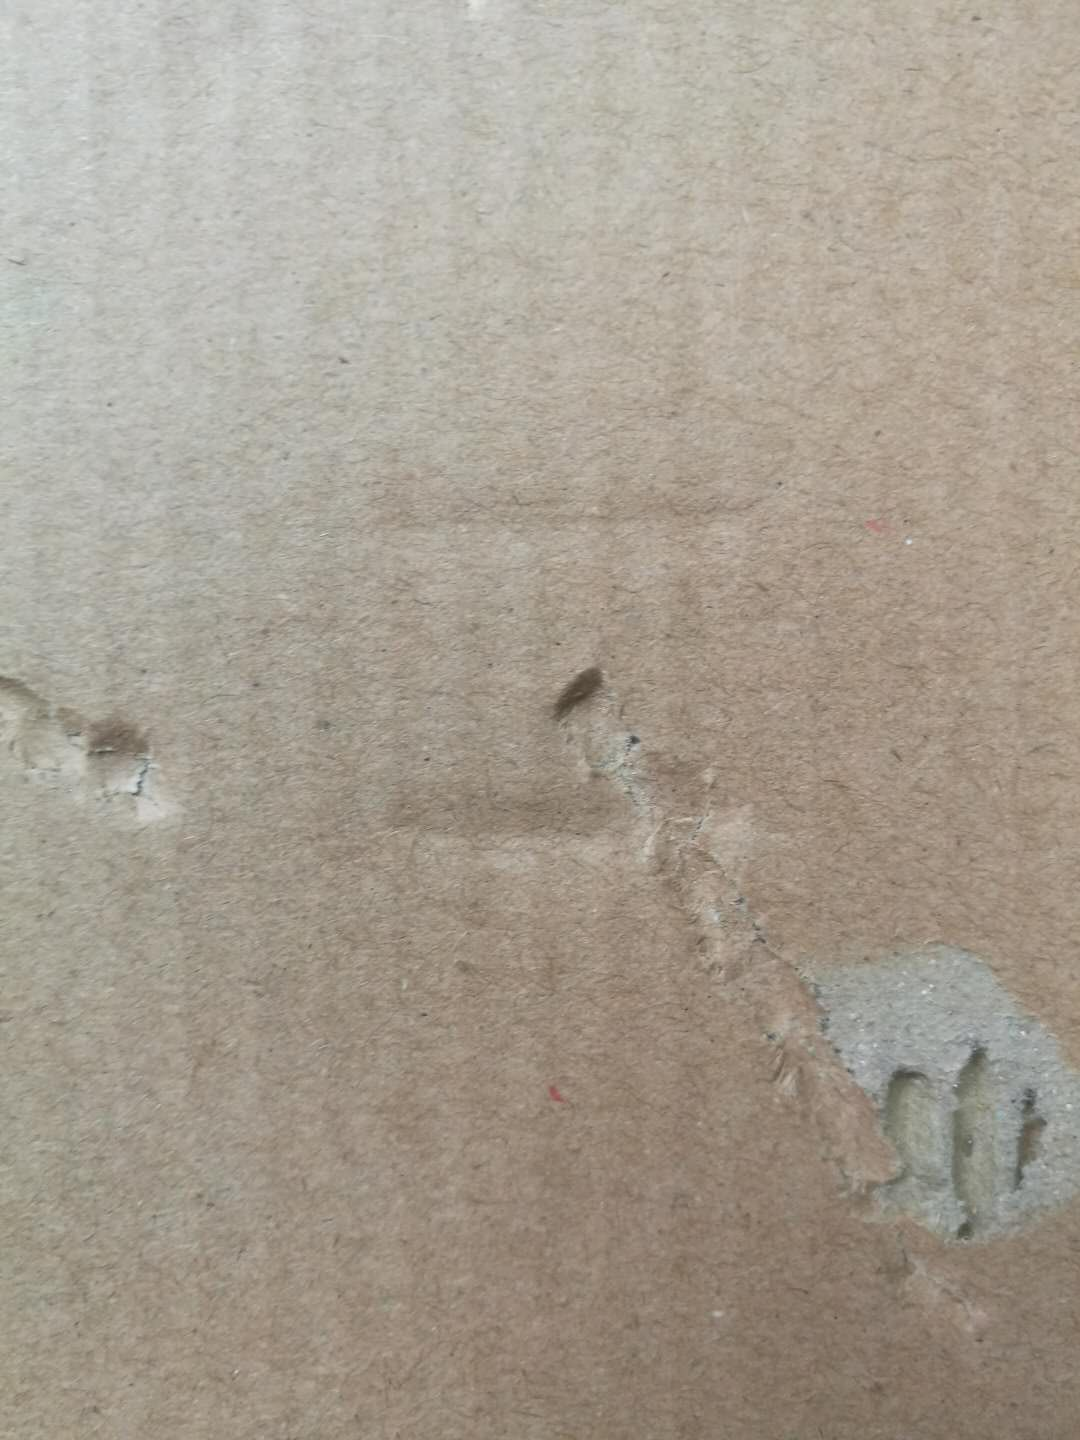defect: (371, 633, 1080, 1362), (2, 630, 206, 870), (326, 465, 811, 558)
